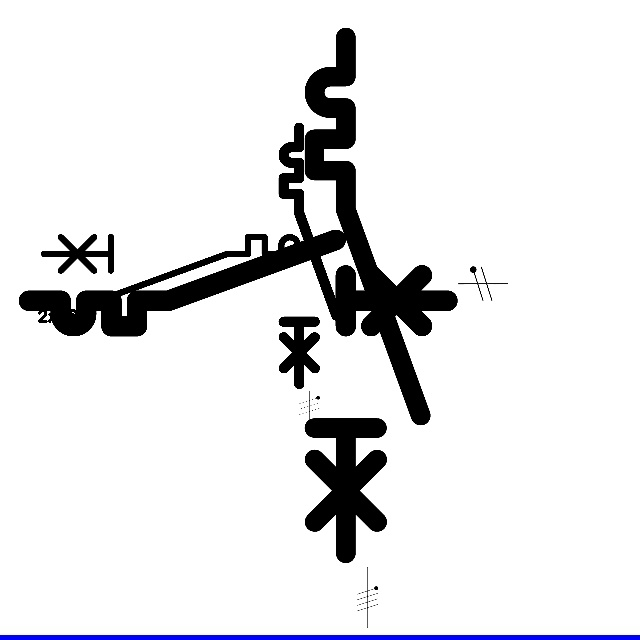interruptor_termomagnetico: (301, 24, 433, 566), (18, 229, 458, 337), (37, 230, 326, 301), (277, 121, 343, 391)
